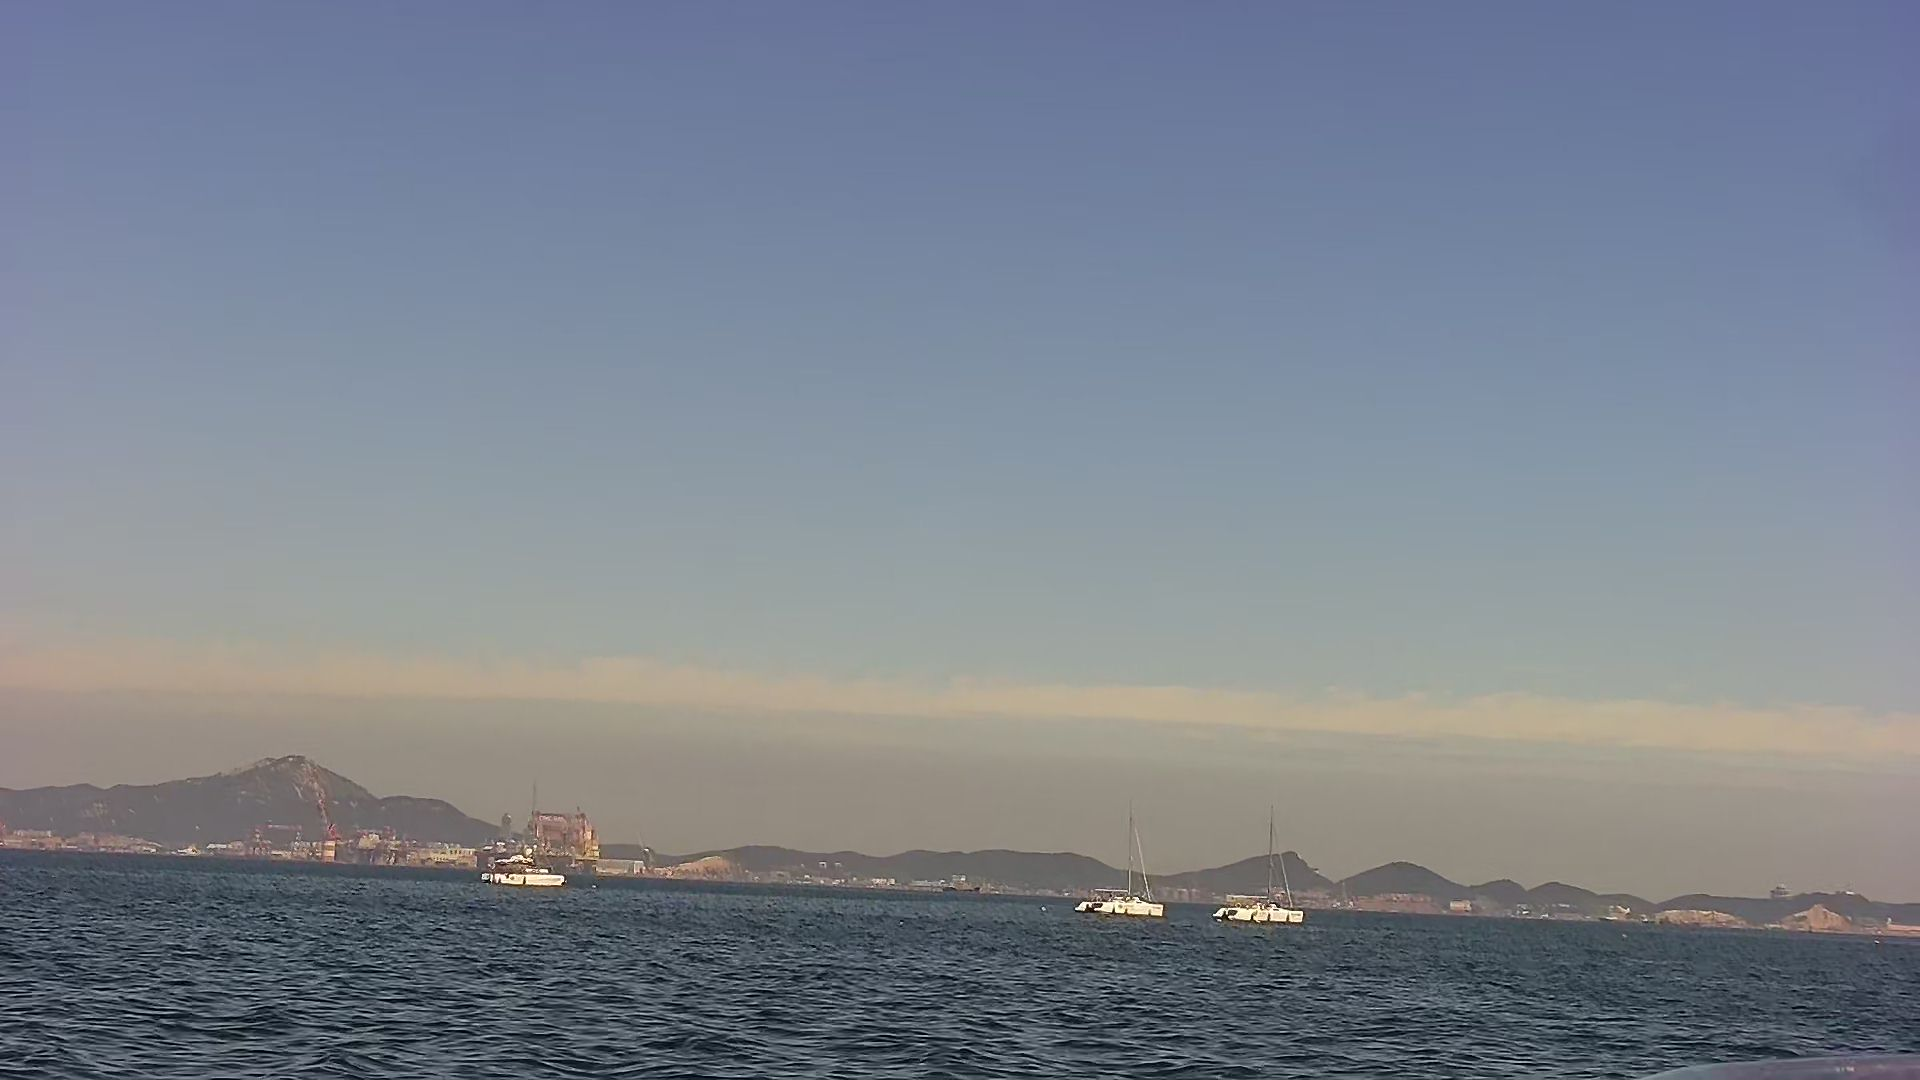boat: (1197, 781, 1332, 928), (1055, 777, 1174, 922), (472, 777, 571, 891), (938, 874, 990, 894)
